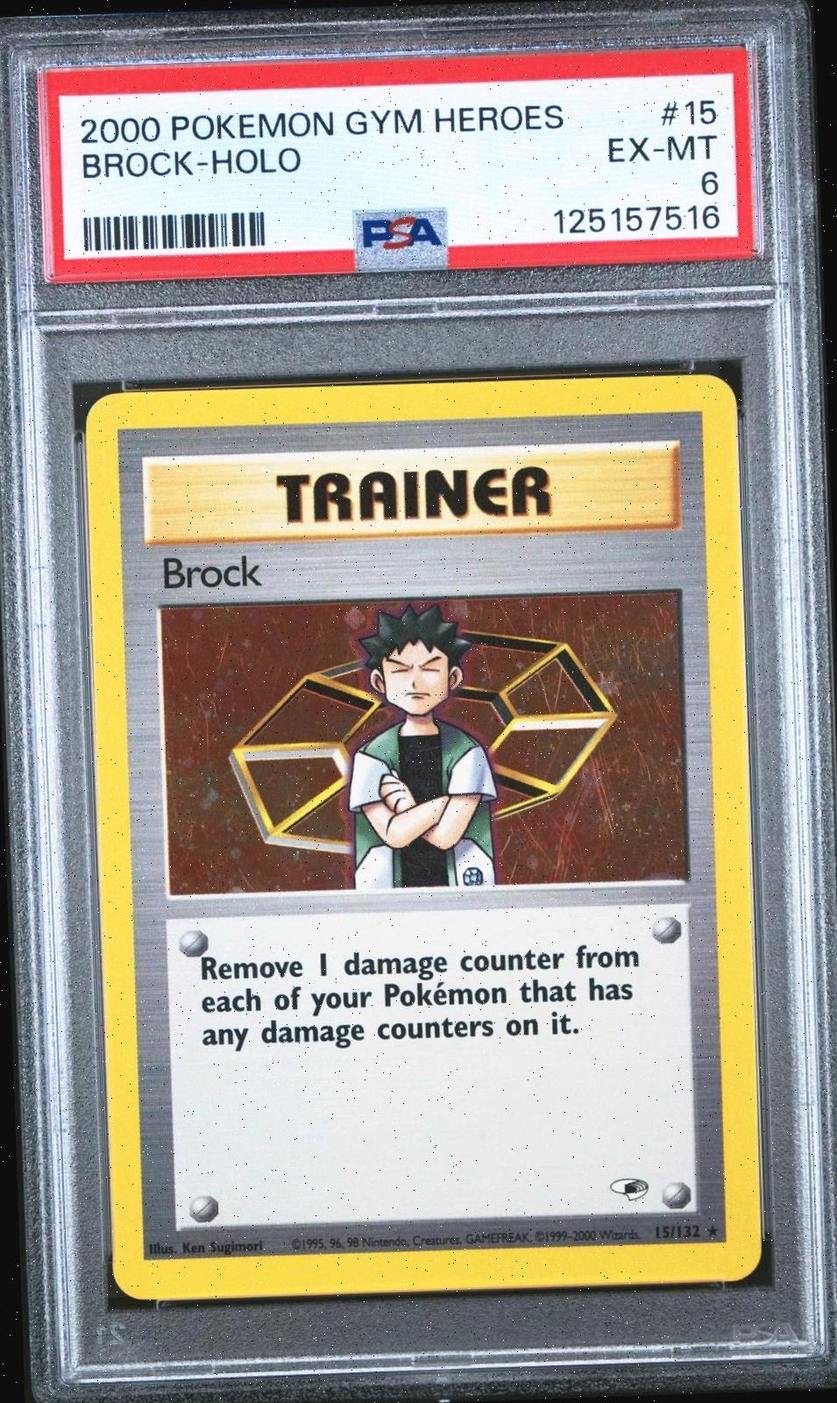card-2UtV: (84, 373, 762, 1301)
